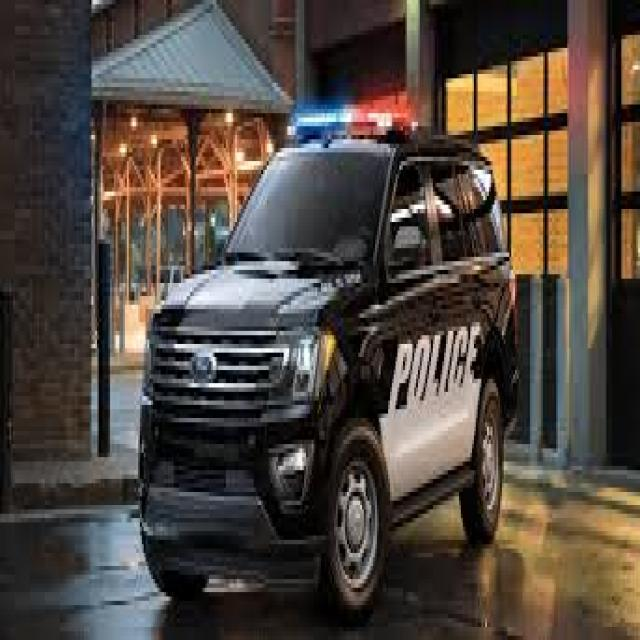Police: (131, 89, 525, 629)
